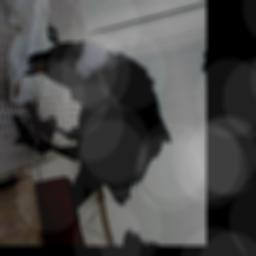Crow: (0, 16, 184, 229)
